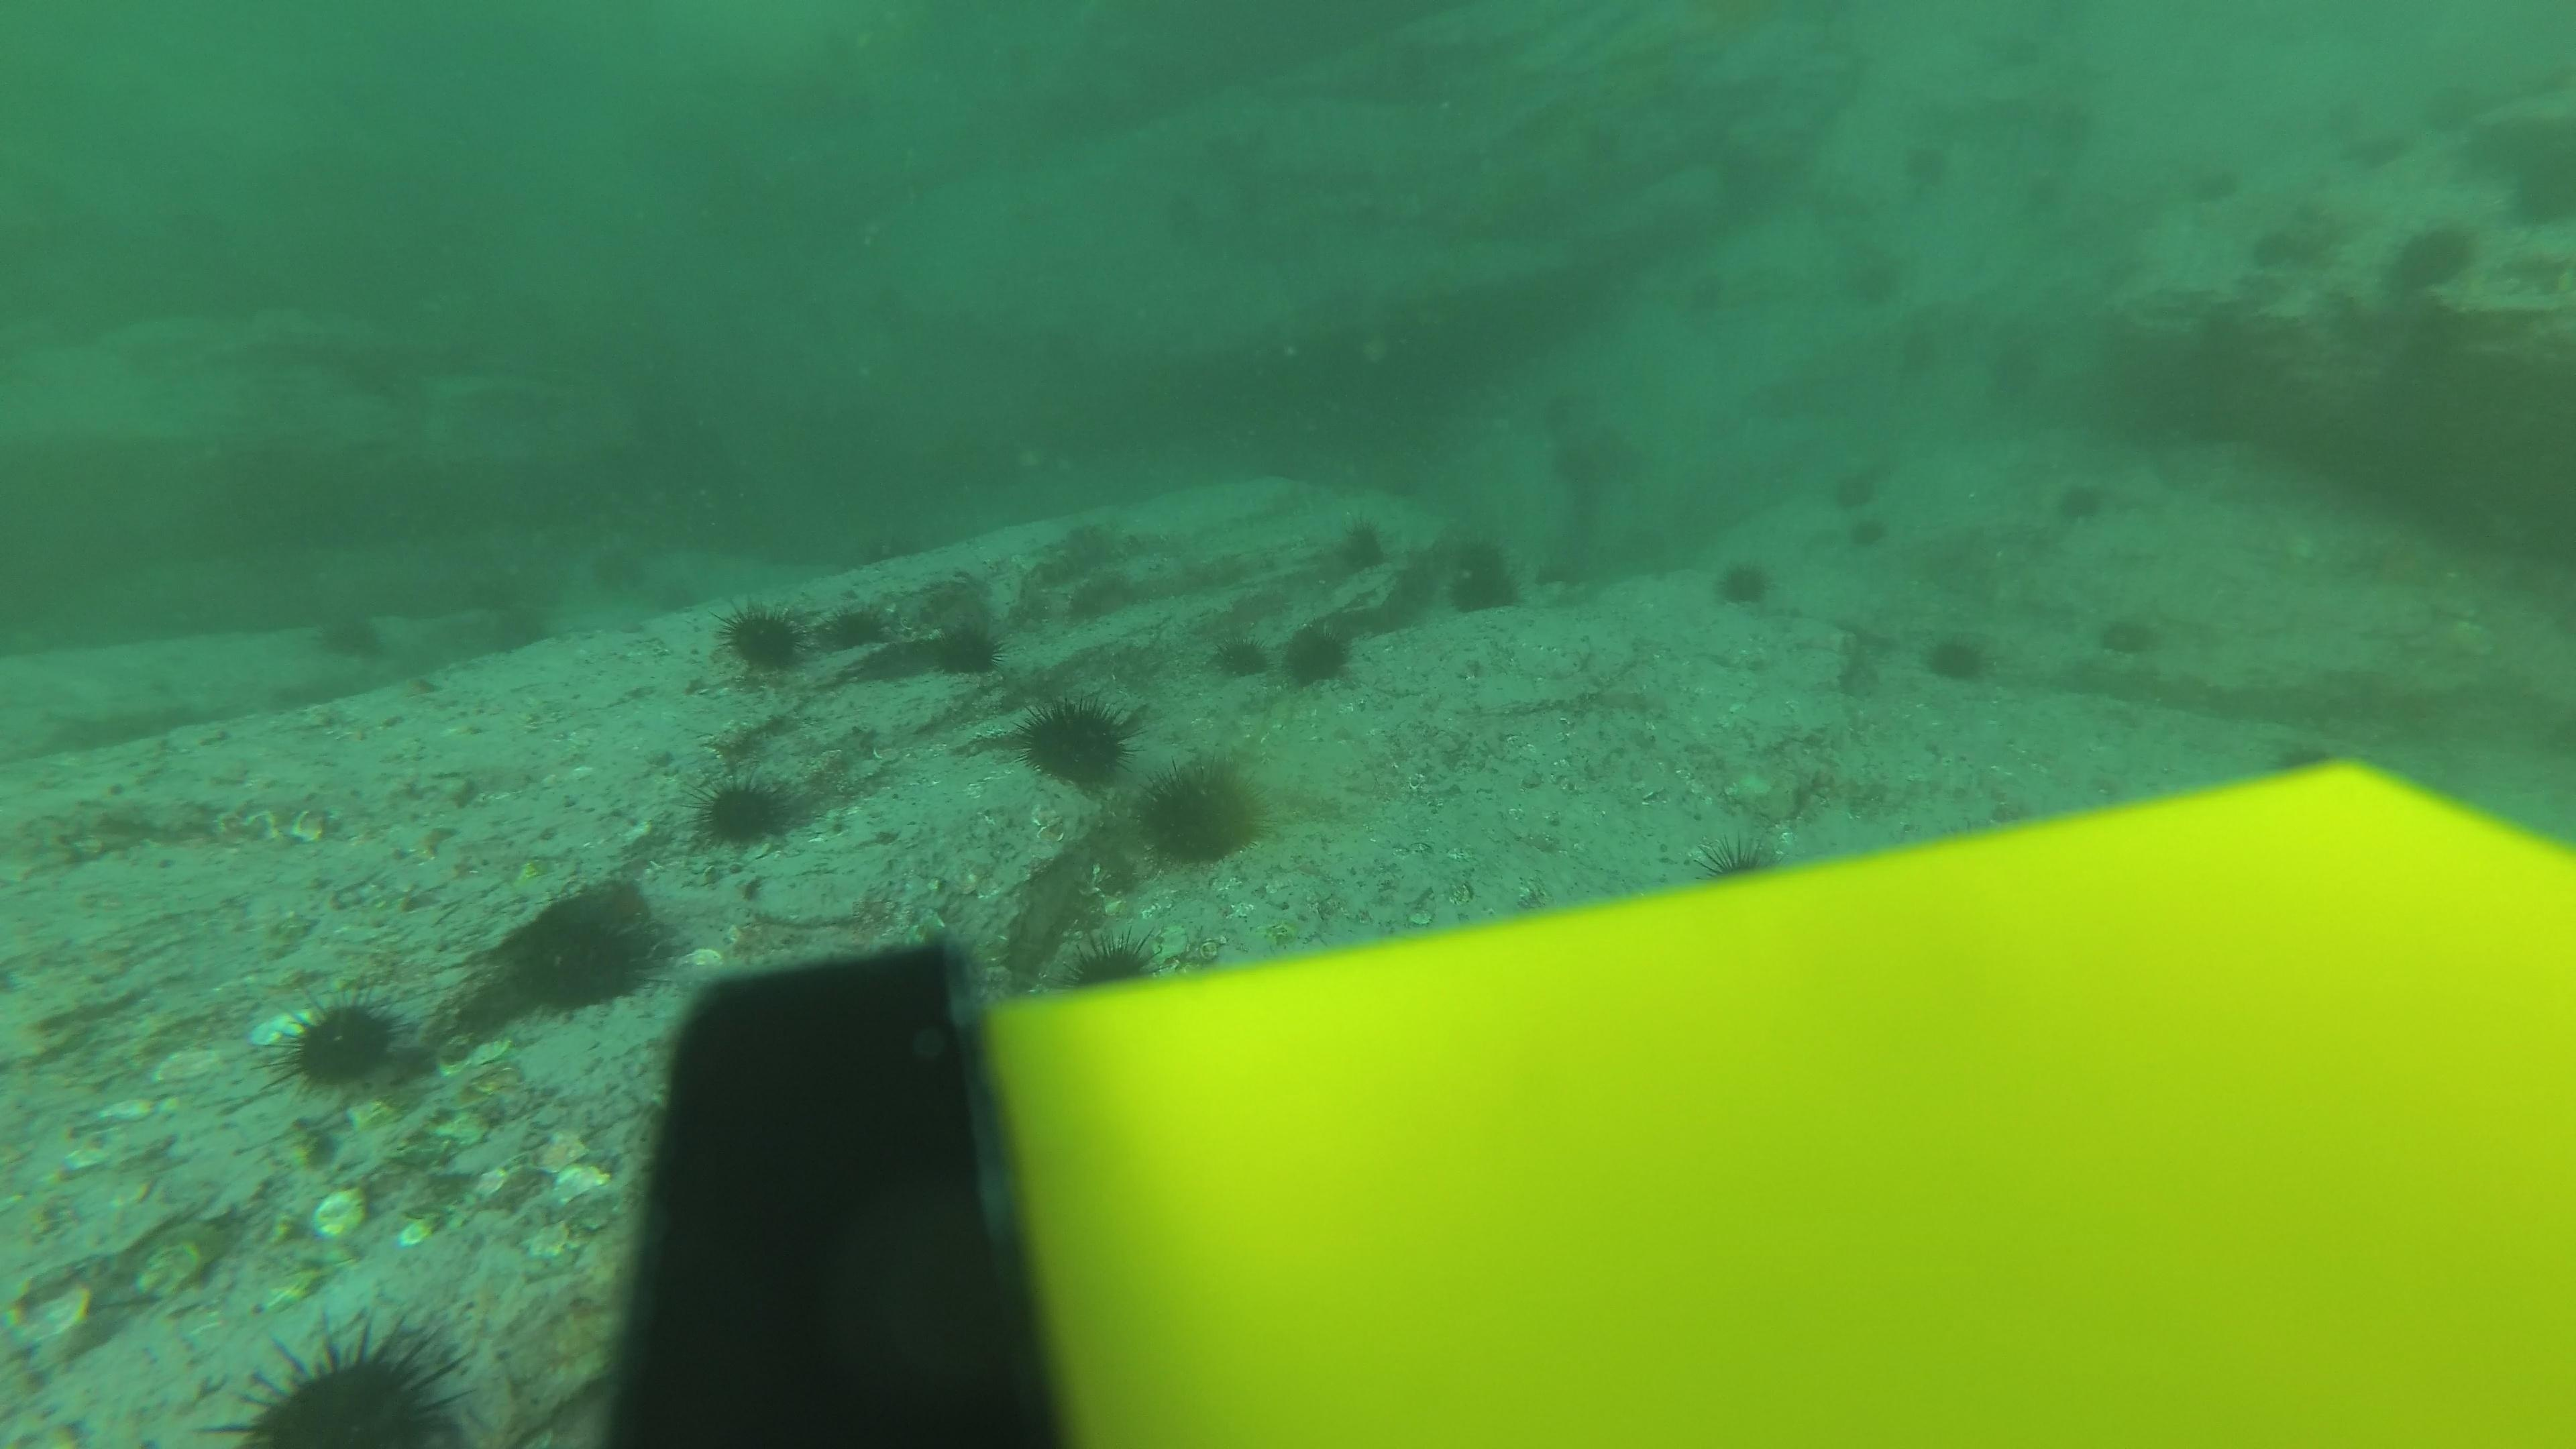echinus: (225, 1309, 479, 1444), (487, 883, 662, 1021), (271, 989, 412, 1099), (1136, 757, 1269, 870), (1014, 690, 1138, 793), (688, 770, 807, 858), (709, 596, 817, 685), (2381, 214, 2484, 303), (1054, 929, 1164, 998), (1693, 828, 1792, 890), (927, 614, 1007, 683), (1283, 617, 1361, 686), (308, 603, 389, 665), (1920, 625, 1996, 690), (1437, 566, 1527, 621), (1709, 552, 1778, 614), (2505, 166, 2576, 225), (2093, 607, 2166, 662), (1210, 630, 1274, 690), (1332, 513, 1392, 575), (828, 596, 893, 653), (580, 541, 646, 596), (485, 605, 552, 658), (2190, 159, 2245, 218), (2245, 221, 2298, 280), (1449, 527, 1509, 575), (1836, 513, 1890, 556), (2360, 131, 2413, 173), (1833, 469, 1884, 511), (1897, 333, 1946, 373), (1987, 357, 2036, 398), (1851, 260, 1898, 301), (1902, 145, 1950, 186), (2056, 487, 2100, 527), (1684, 269, 1727, 304), (2015, 172, 2058, 207), (1534, 556, 1580, 586)
starfish: (2341, 522, 2457, 596)
